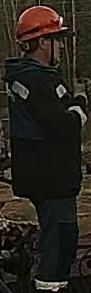gloves: (74, 77, 91, 112)
helmet: (14, 5, 69, 43)
vest: (3, 56, 82, 199)
